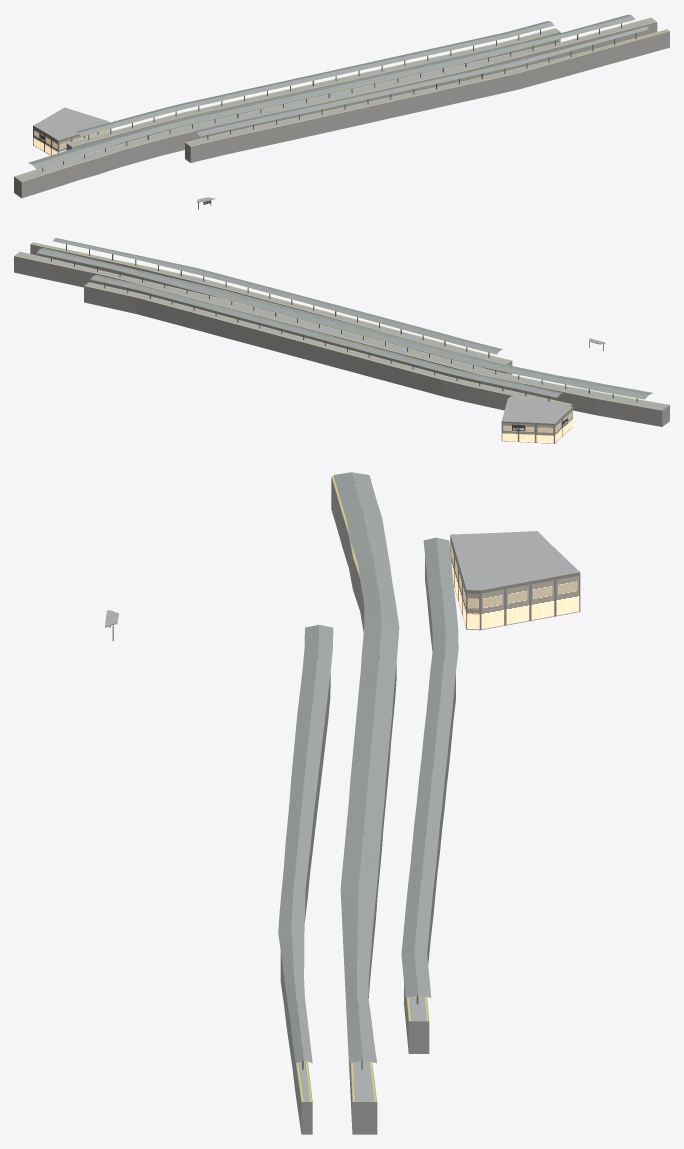
File: yoyogi_station.glb
The picture shows the model from 3 angles, top to bottom: view 1: azimuth 30°, elevation 25°; view 2: azimuth 150°, elevation 25°; view 3: azimuth 270°, elevation 25°; orthographic projection. The views are drawn at different scales.
Visible parts, largest first — view 1: YY_Station; view 2: YY_Station; view 3: YY_Station.
Boxes of the visible parts, <box> form: YY_Station: <box>14,14,669,209</box>; YY_Station: <box>14,238,669,443</box>; YY_Station: <box>105,472,580,1134</box>.
Size of the model in its own units: 287 by 11.2 by 92.45.
8 materials, 1 textured.
